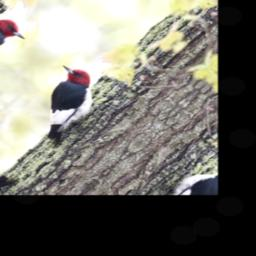Woodpecker: (9, 60, 115, 145)
